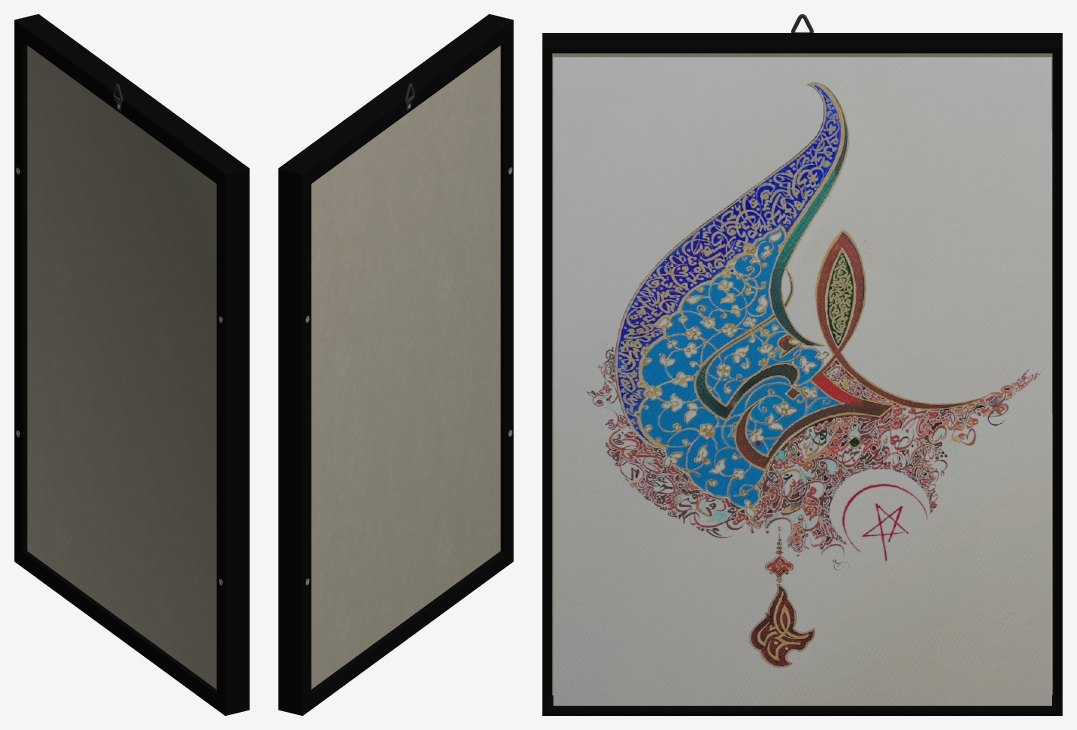
The model's file is table 1.glb.
3 renders of one model, left to right at view 1: azimuth 30°, elevation 25°; view 2: azimuth 150°, elevation 25°; view 3: azimuth 270°, elevation 25°, orthographic. The views are drawn at different scales.
Visible parts, largest first — view 1: Canvas.003, Frame.003; view 2: Canvas.003, Frame.003; view 3: Canvas.003, Frame.003.
Part boxes in pixels (x1,y1,x2,y2): Canvas.003: (27, 45, 216, 689); Frame.003: (14, 14, 249, 715); Canvas.003: (311, 45, 500, 689); Frame.003: (278, 14, 513, 715); Canvas.003: (552, 53, 1052, 705); Frame.003: (542, 33, 1062, 715).
Size of the model in its own units: 0.0457 by 0.8722 by 0.6.
5 materials, 2 textured.
